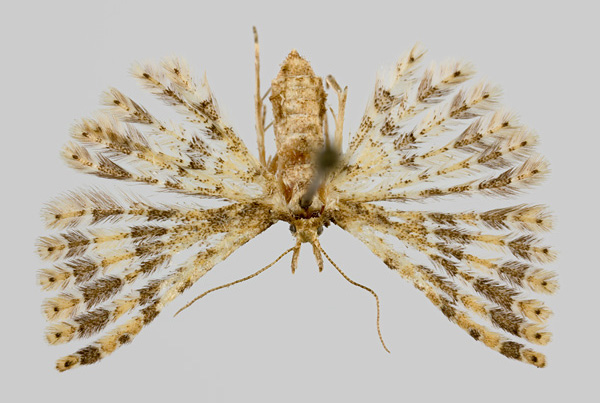Alucitidae: (27, 19, 558, 370)
moth: (29, 21, 560, 372)
